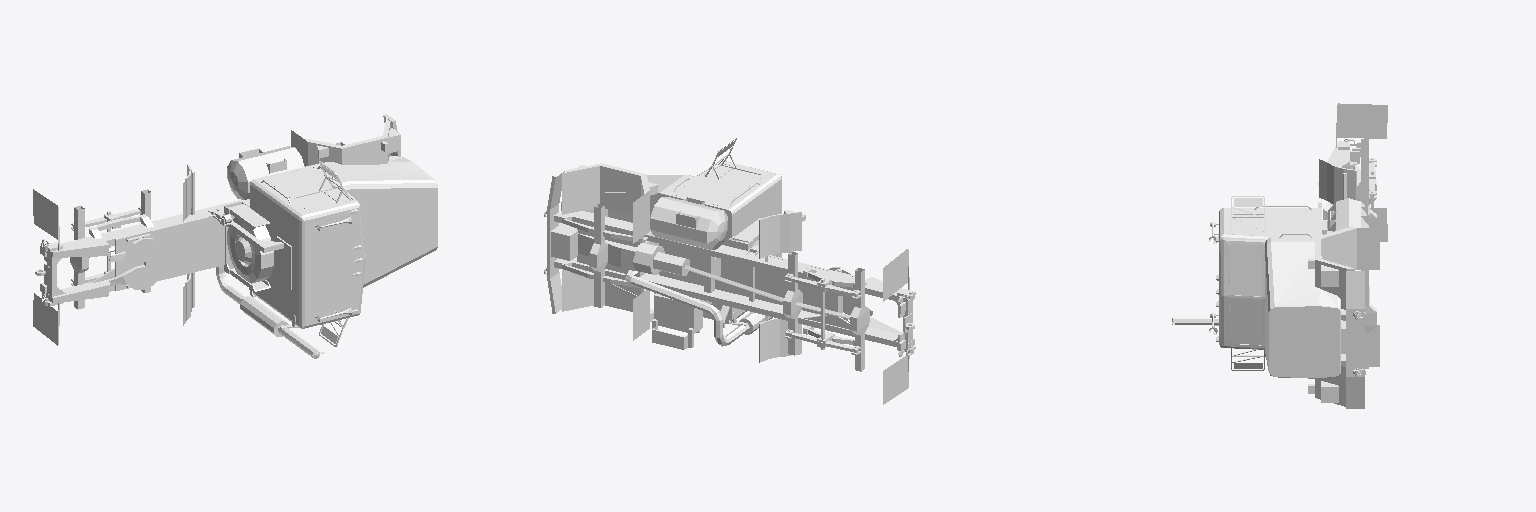
The model's file is m915_chassis.obj.
The picture shows the model from 3 angles: view 1: azimuth 30°, elevation 25°; view 2: azimuth 150°, elevation 25°; view 3: azimuth 270°, elevation 25°; orthographic projection.
Visible parts, largest first — view 1: M915_Hull_01_M915_Semi_01, M915_Semi_01_M915_Door_L_01, M915_Semi_01_TT_01; view 2: M915_Hull_01_M915_Semi_01, M915_Semi_01_M915_Door_L_01; view 3: M915_Hull_01_M915_Semi_01, M915_Semi_01_M915_Door_L_01.
Part boxes in pixels (left/top/right/bottom): M915_Hull_01_M915_Semi_01: left=33, top=114, right=437, bottom=357; M915_Semi_01_M915_Door_L_01: left=265, top=161, right=351, bottom=210; M915_Semi_01_TT_01: left=109, top=237, right=165, bottom=289; M915_Hull_01_M915_Semi_01: left=544, top=161, right=915, bottom=404; M915_Semi_01_M915_Door_L_01: left=674, top=138, right=765, bottom=205; M915_Hull_01_M915_Semi_01: left=1173, top=103, right=1387, bottom=408; M915_Semi_01_M915_Door_L_01: left=1230, top=196, right=1317, bottom=235.
Bounding box in the file's own units: 6.74 × 3.08 × 3.46.